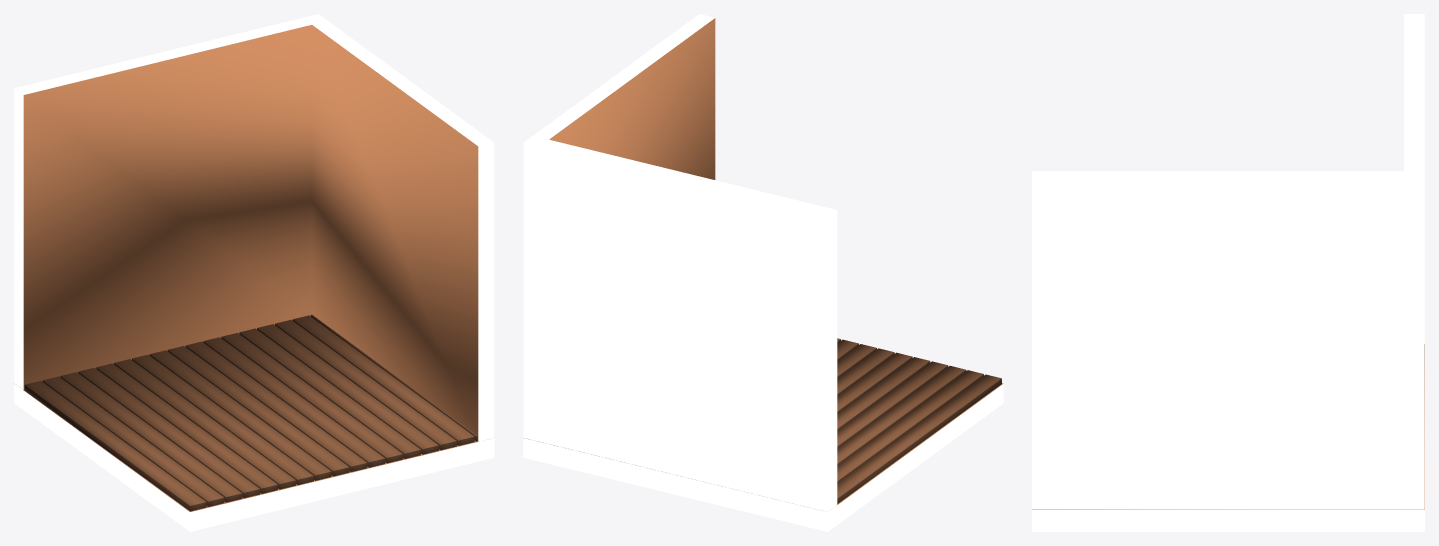
The model's file is EmptyRoom.glb.
3 views of the same model, side by side, from view 1: azimuth 30°, elevation 25°; view 2: azimuth 150°, elevation 25°; view 3: azimuth 270°, elevation 25° (orthographic). The views are drawn at different scales.
Parts seen in each view (by area): view 1: Isometric_cafe; view 2: Isometric_cafe; view 3: Isometric_cafe.
Part boxes in pixels (x1=…): Isometric_cafe: x1=14, y1=14, x2=494, y2=531; Isometric_cafe: x1=523, y1=14, x2=1003, y2=531; Isometric_cafe: x1=1032, y1=14, x2=1424, y2=531.
Size of the model in its own units: 2 by 1.98 by 2.
2 materials, 1 textured.
